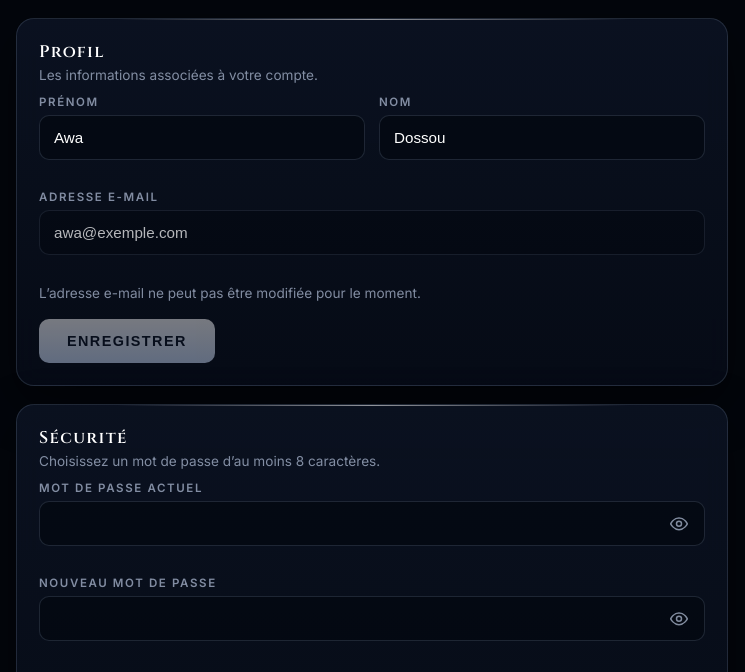
Test case: Settings : mot de passe › refuse un nouveau mot de passe identique à l’actuel
Expected: the field showing "Awa" is shown, [39,115,365,160]
Type "memeMdp123" into the password field labelled "Mot de passe actuel" at (372, 524), box [39,501,705,546]
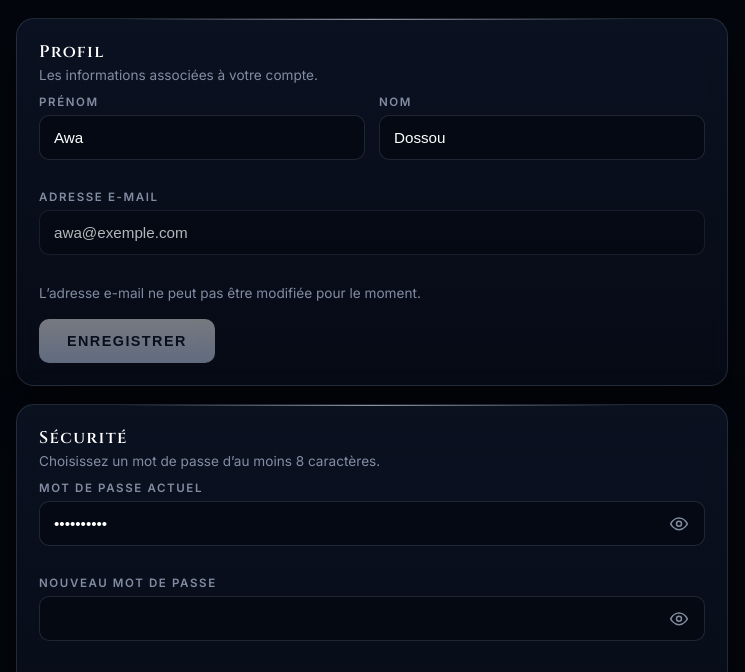
Type "memeMdp123" into the password field labelled "Nouveau mot de passe" at (372, 618), box [39,596,705,641]
(page scrolled)
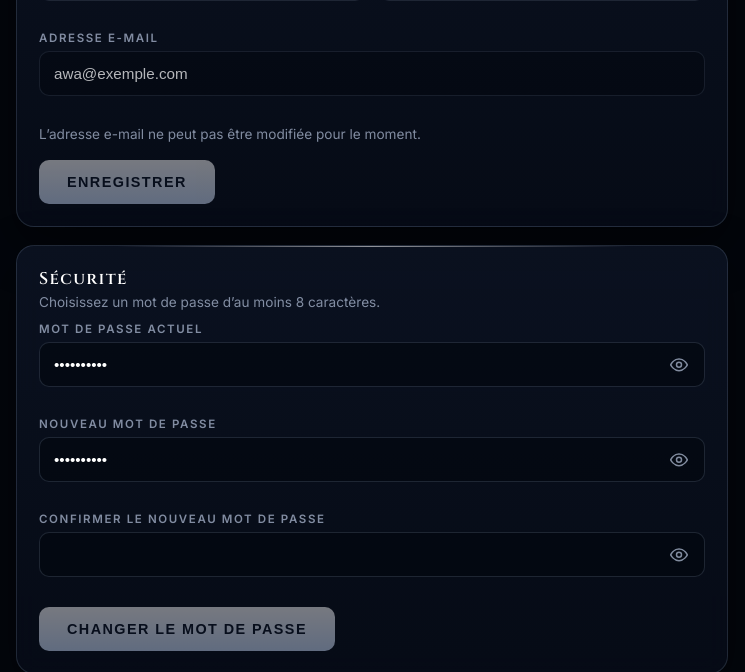
Type "memeMdp123" into the password field labelled "Confirmer le nouveau mot de passe" at (372, 554), box [39,532,705,577]
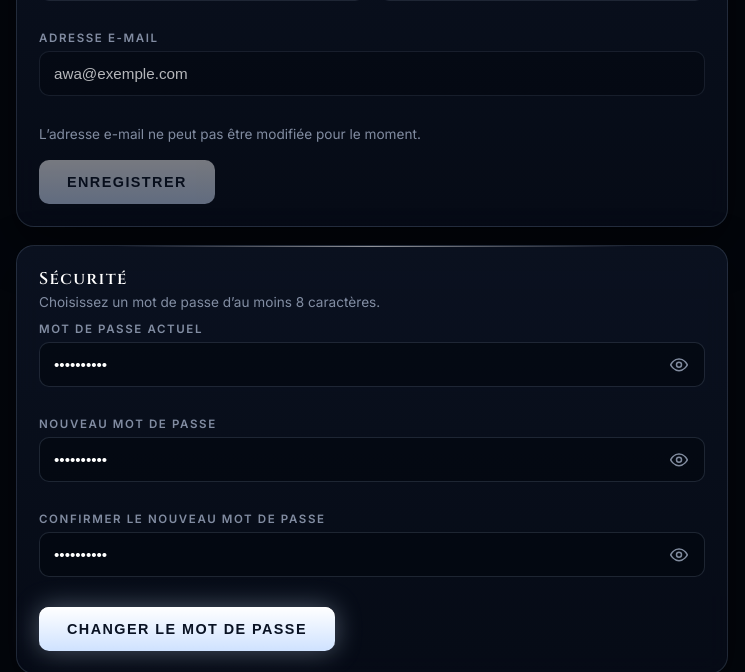
Click the button "Changer le mot de passe" at (187, 629), box [39,607,335,651]
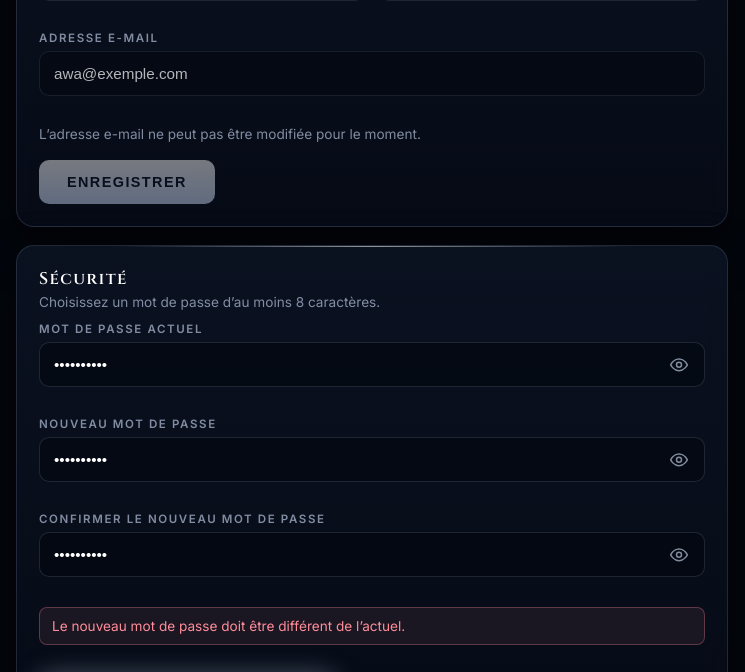
Now the message shows "différent de l’actuel", box [52,618,405,634]
